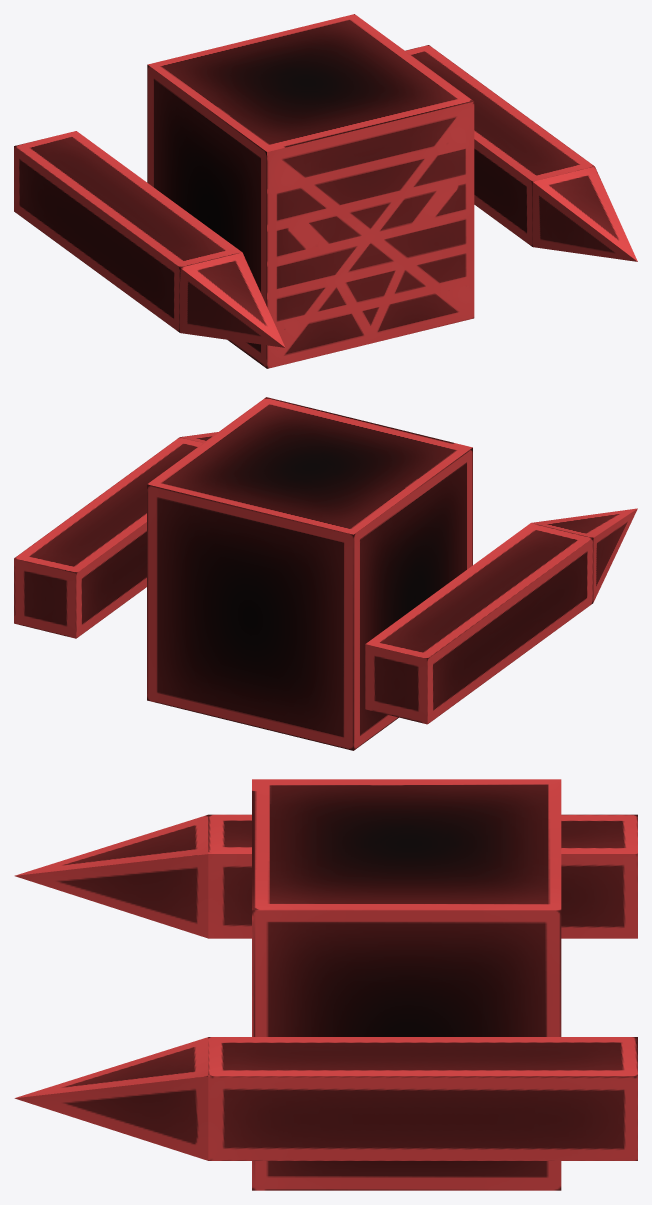
The model's file is enemy.obj.
3 views of the same model, one above another, from view 1: azimuth 30°, elevation 25°; view 2: azimuth 150°, elevation 25°; view 3: azimuth 270°, elevation 25° (orthographic). The views are drawn at different scales.
Visible parts, largest first — view 1: Cube; view 2: Cube; view 3: Cube.
Part boxes in pixels (x1,y1,x2,y2): Cube: (14, 14, 637, 368); Cube: (14, 397, 637, 750); Cube: (14, 779, 637, 1190).
Size of the model in its own units: 4 by 2 by 4.03.
1 material, 1 textured.
